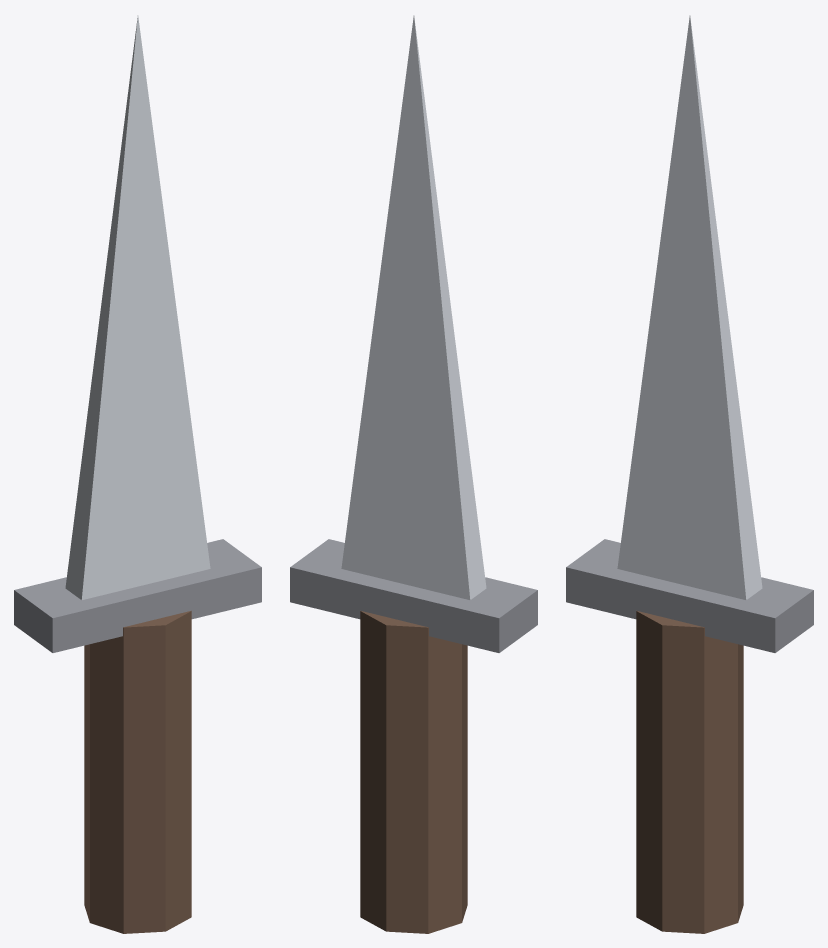
File: ninja_dagger.glb
3 views of the same model, side by side, from view 1: azimuth 30°, elevation 25°; view 2: azimuth 150°, elevation 25°; view 3: azimuth 330°, elevation 25° (orthographic).
Parts seen in each view (by area): view 1: dagger_blade, dagger_grip, dagger_guard; view 2: dagger_blade, dagger_grip, dagger_guard; view 3: dagger_blade, dagger_grip, dagger_guard.
Boxes of the visible parts, x1,y1,x2,y2 form: dagger_blade: [65, 15, 210, 600]; dagger_grip: [84, 610, 191, 933]; dagger_guard: [14, 539, 261, 652]; dagger_blade: [341, 15, 486, 600]; dagger_grip: [360, 610, 467, 933]; dagger_guard: [290, 539, 537, 652]; dagger_blade: [617, 15, 762, 600]; dagger_grip: [636, 610, 743, 933]; dagger_guard: [566, 539, 813, 652].
Size of the model in its own units: 0.05 by 0.205 by 0.023.
